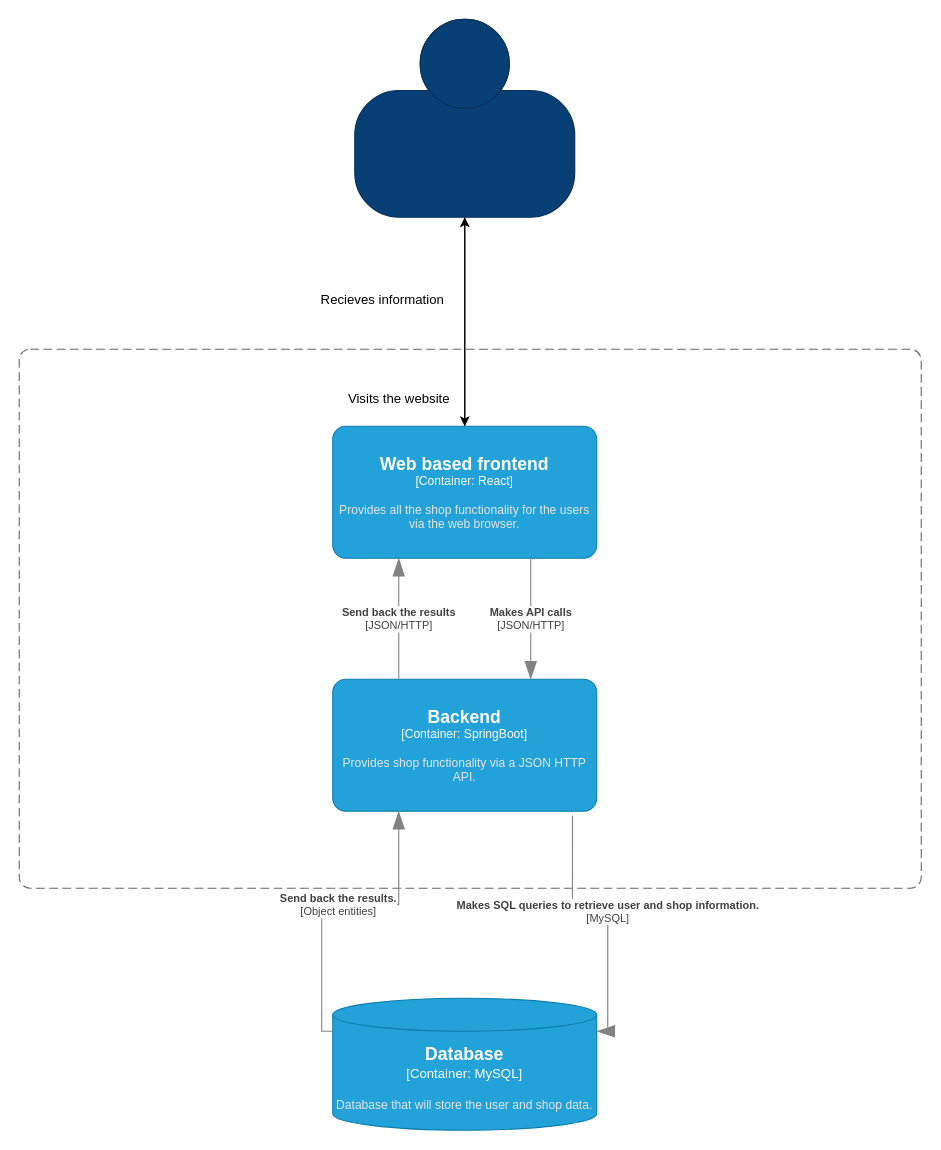
Some shapes in this 941 by 1150 pixel diagram are drawn without their labels. The box of each missing label's shape, as (x1, y1, x2, y2) in pixels:
Software engineer [Person] Customer of the application: (354, 18, 575, 217)
Test regression dashboard Software [Frontend and backend for the application.]: (18, 348, 921, 888)
